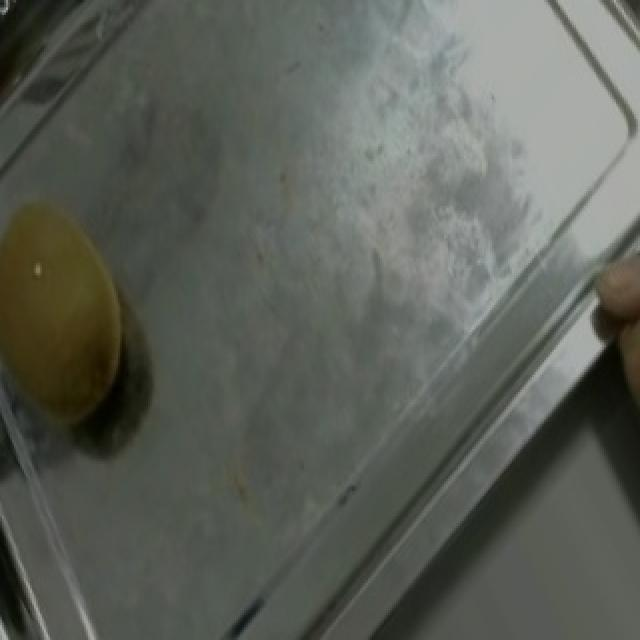Fruit: (0, 166, 174, 466)
